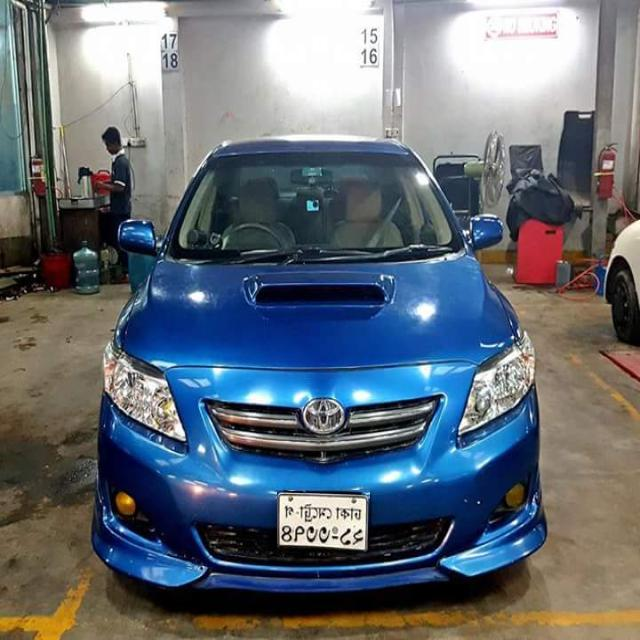numberplate: (277, 490, 370, 552)
